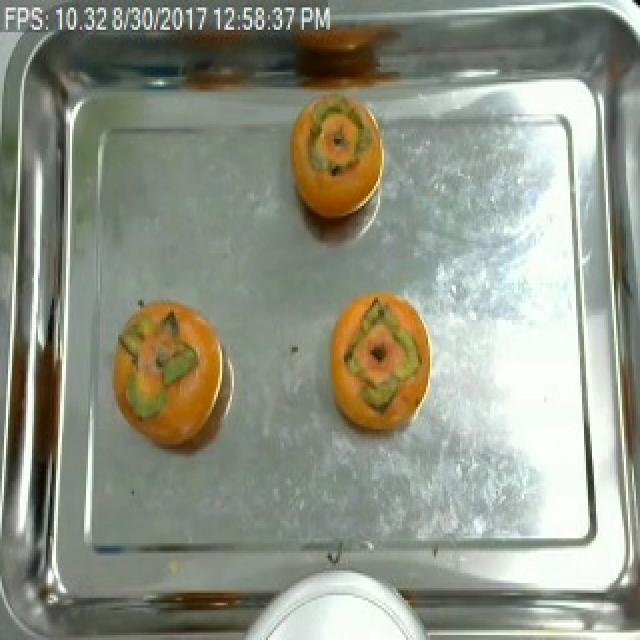Fruit: (110, 293, 230, 464), (324, 285, 436, 444), (278, 92, 394, 230)
